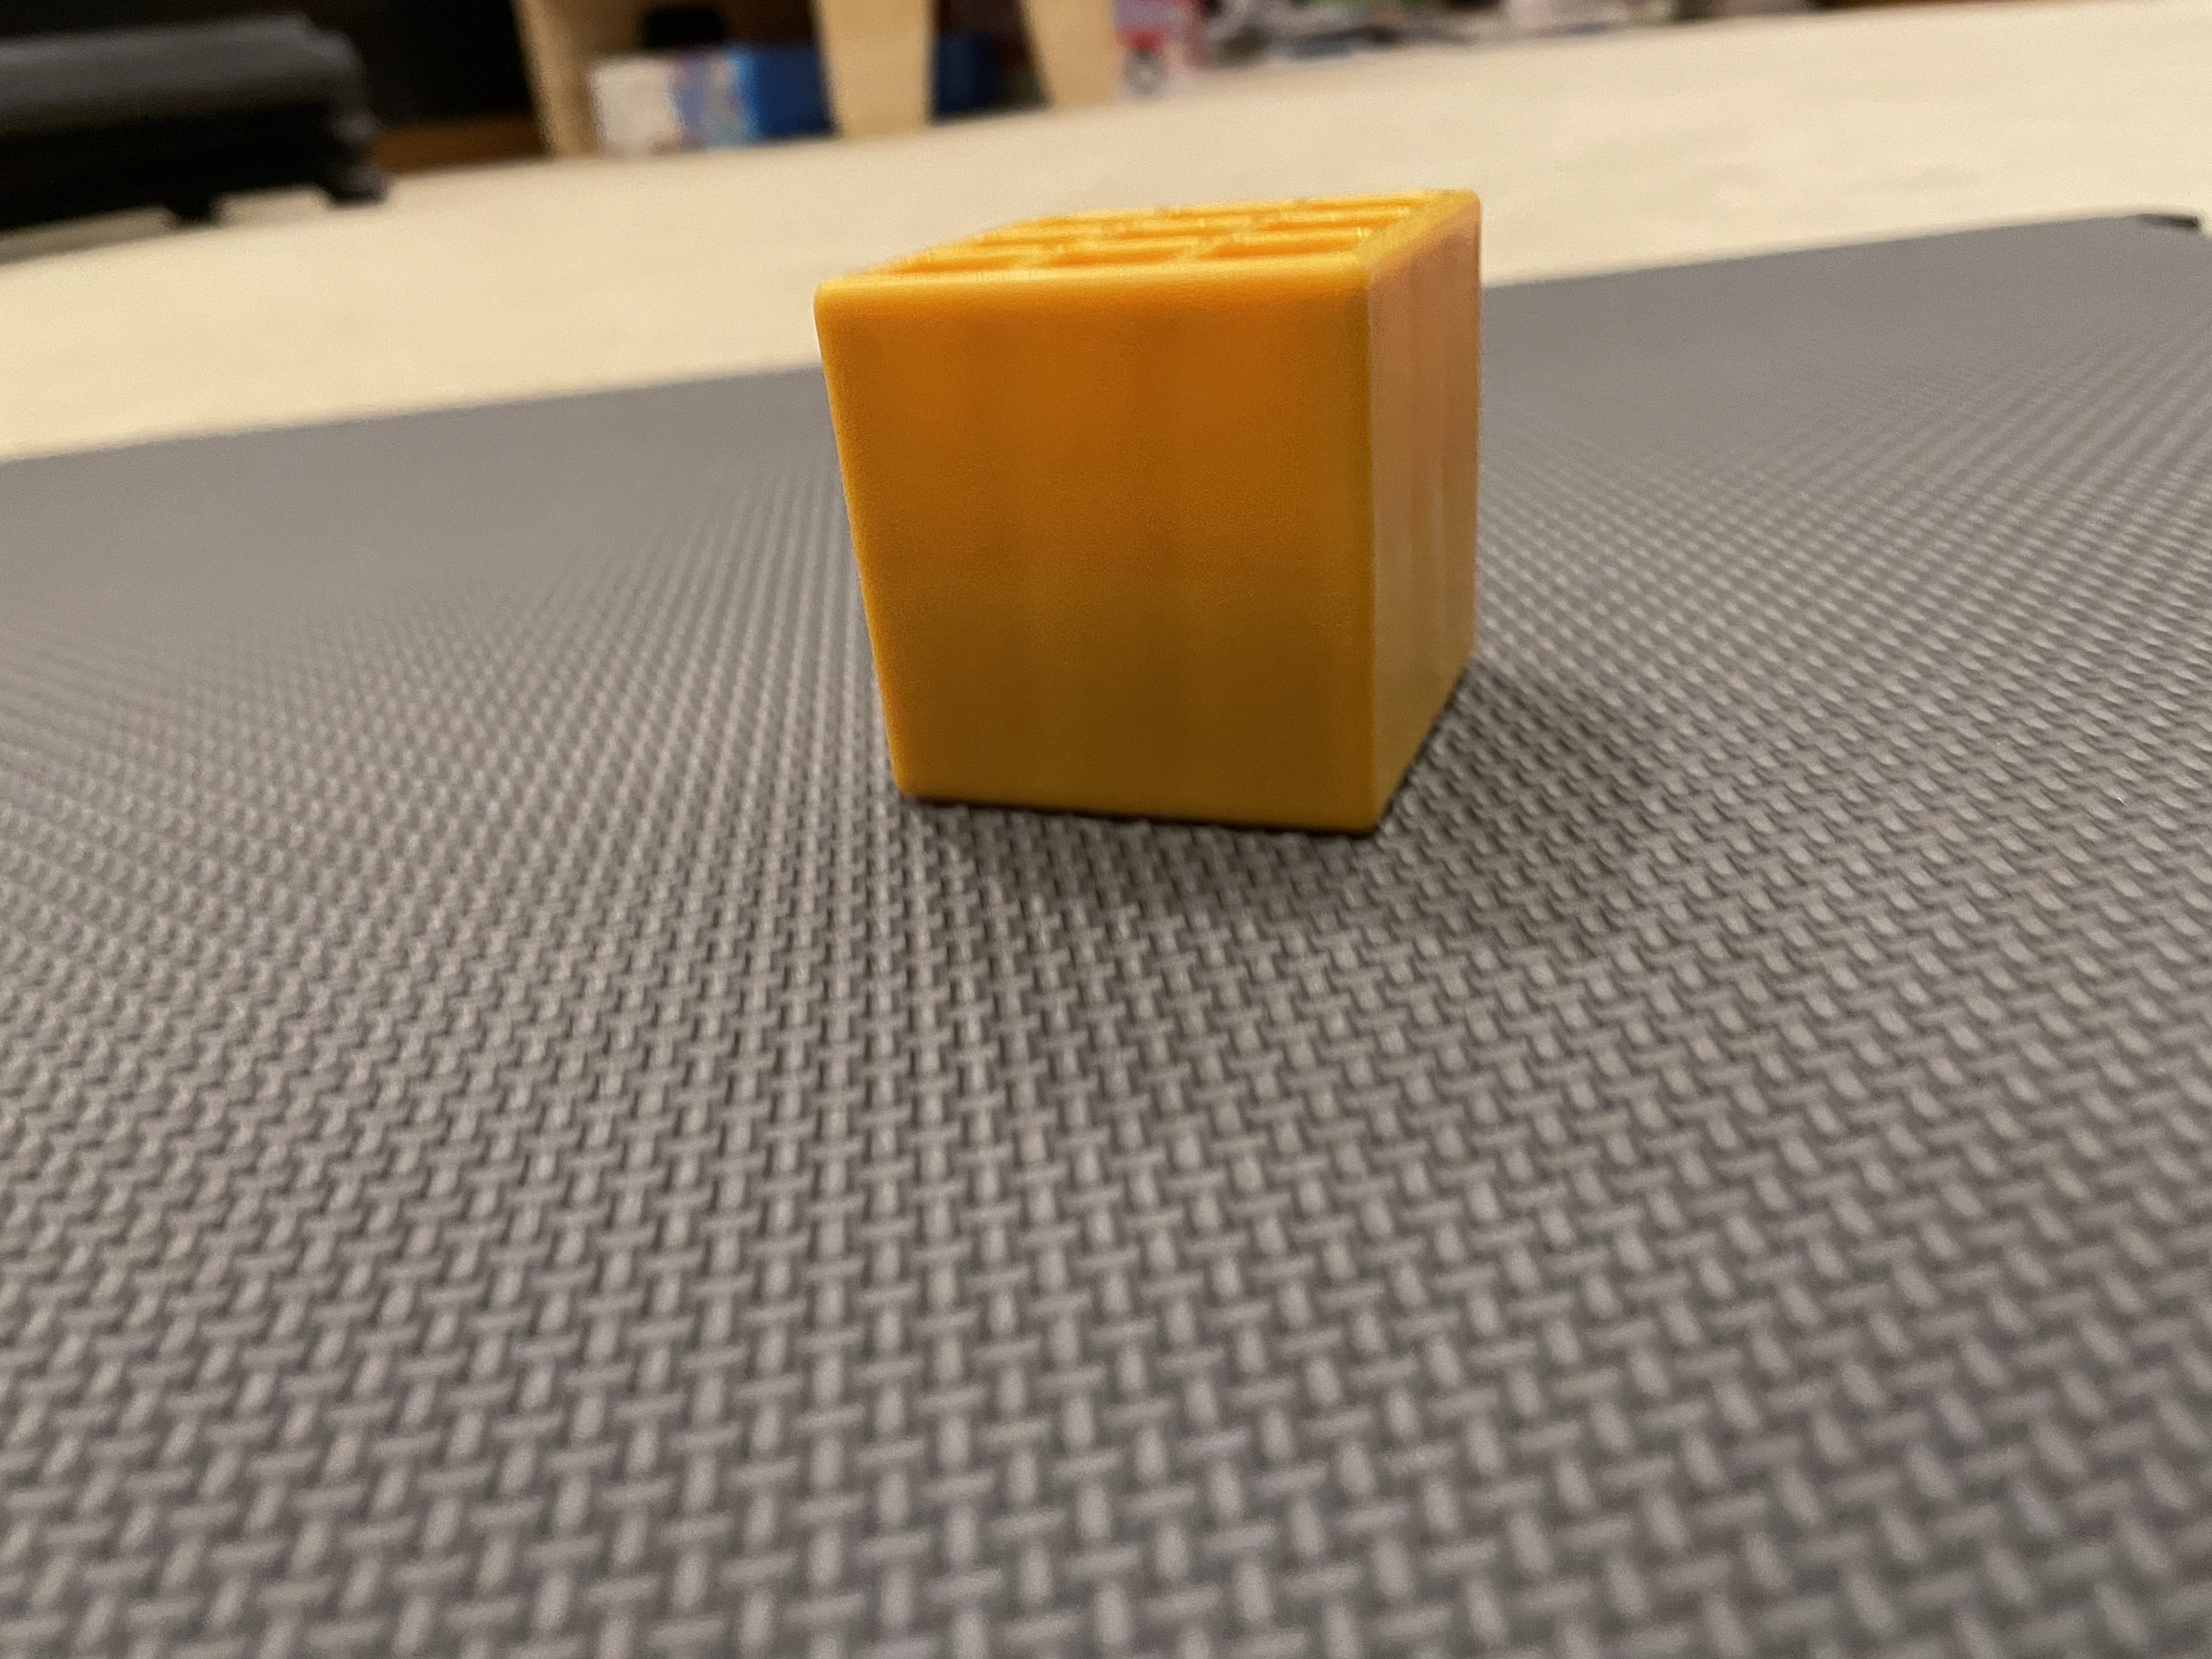cube: (782, 132, 1555, 906)
